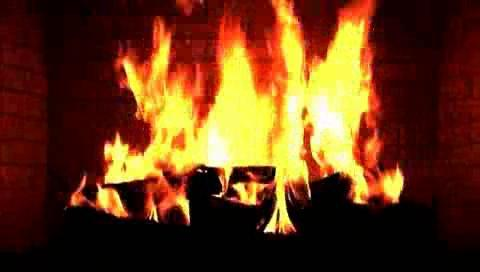fire: (114, 11, 395, 231)
